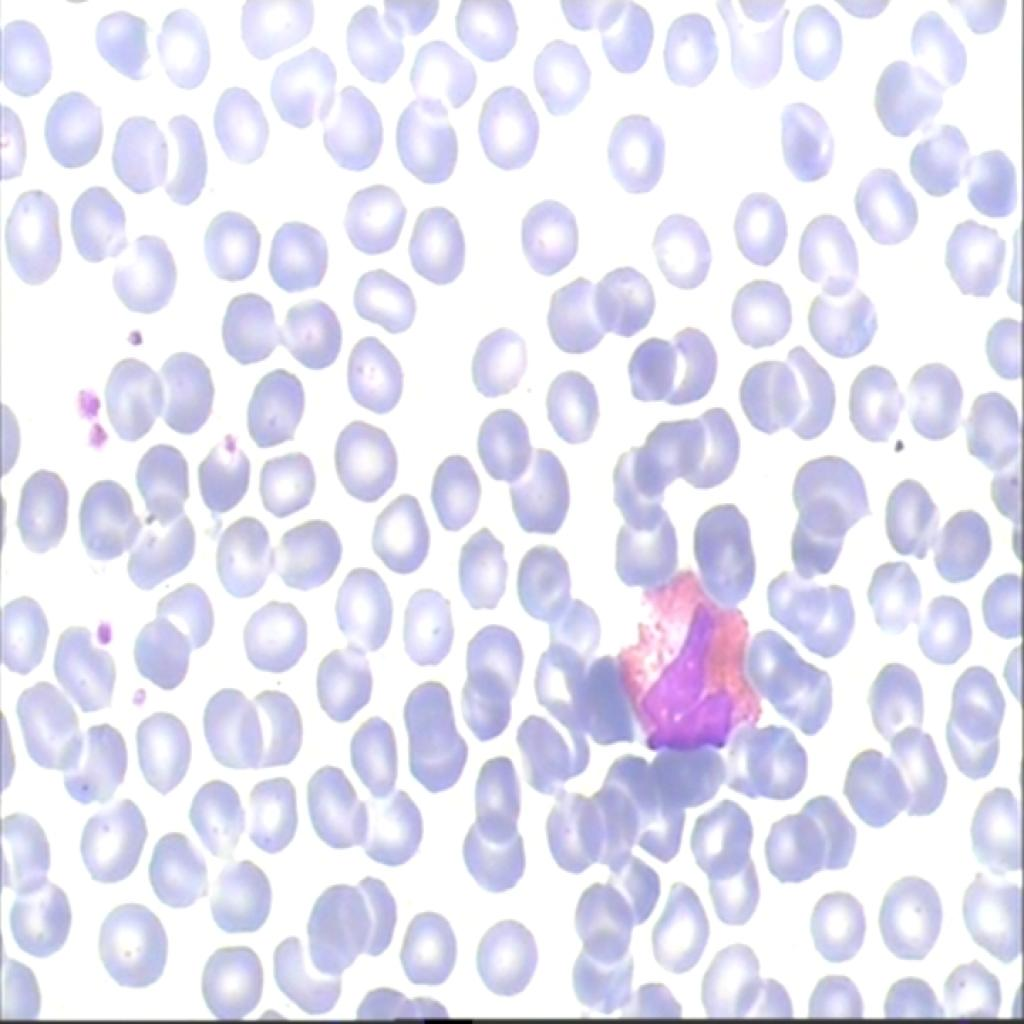Eosinofil: (616, 566, 764, 764)
Platelet: (68, 380, 104, 416), (208, 425, 242, 460), (118, 318, 144, 356), (82, 423, 114, 452), (889, 427, 910, 464), (92, 612, 112, 646)
